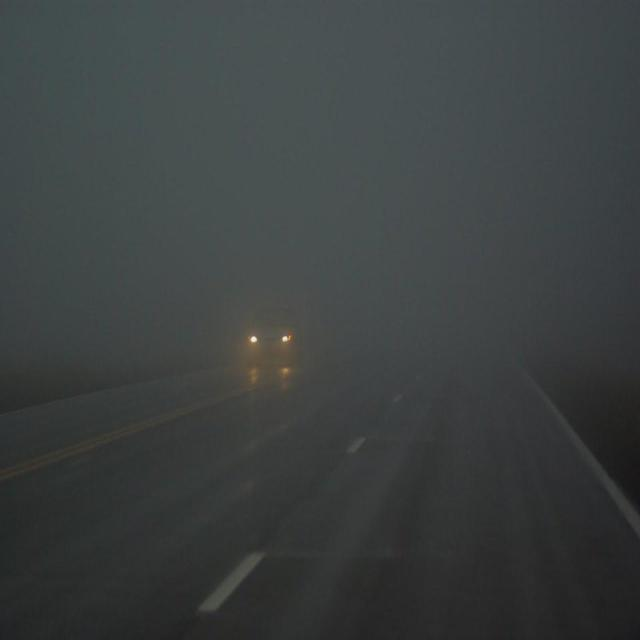Car: (238, 279, 310, 378)
